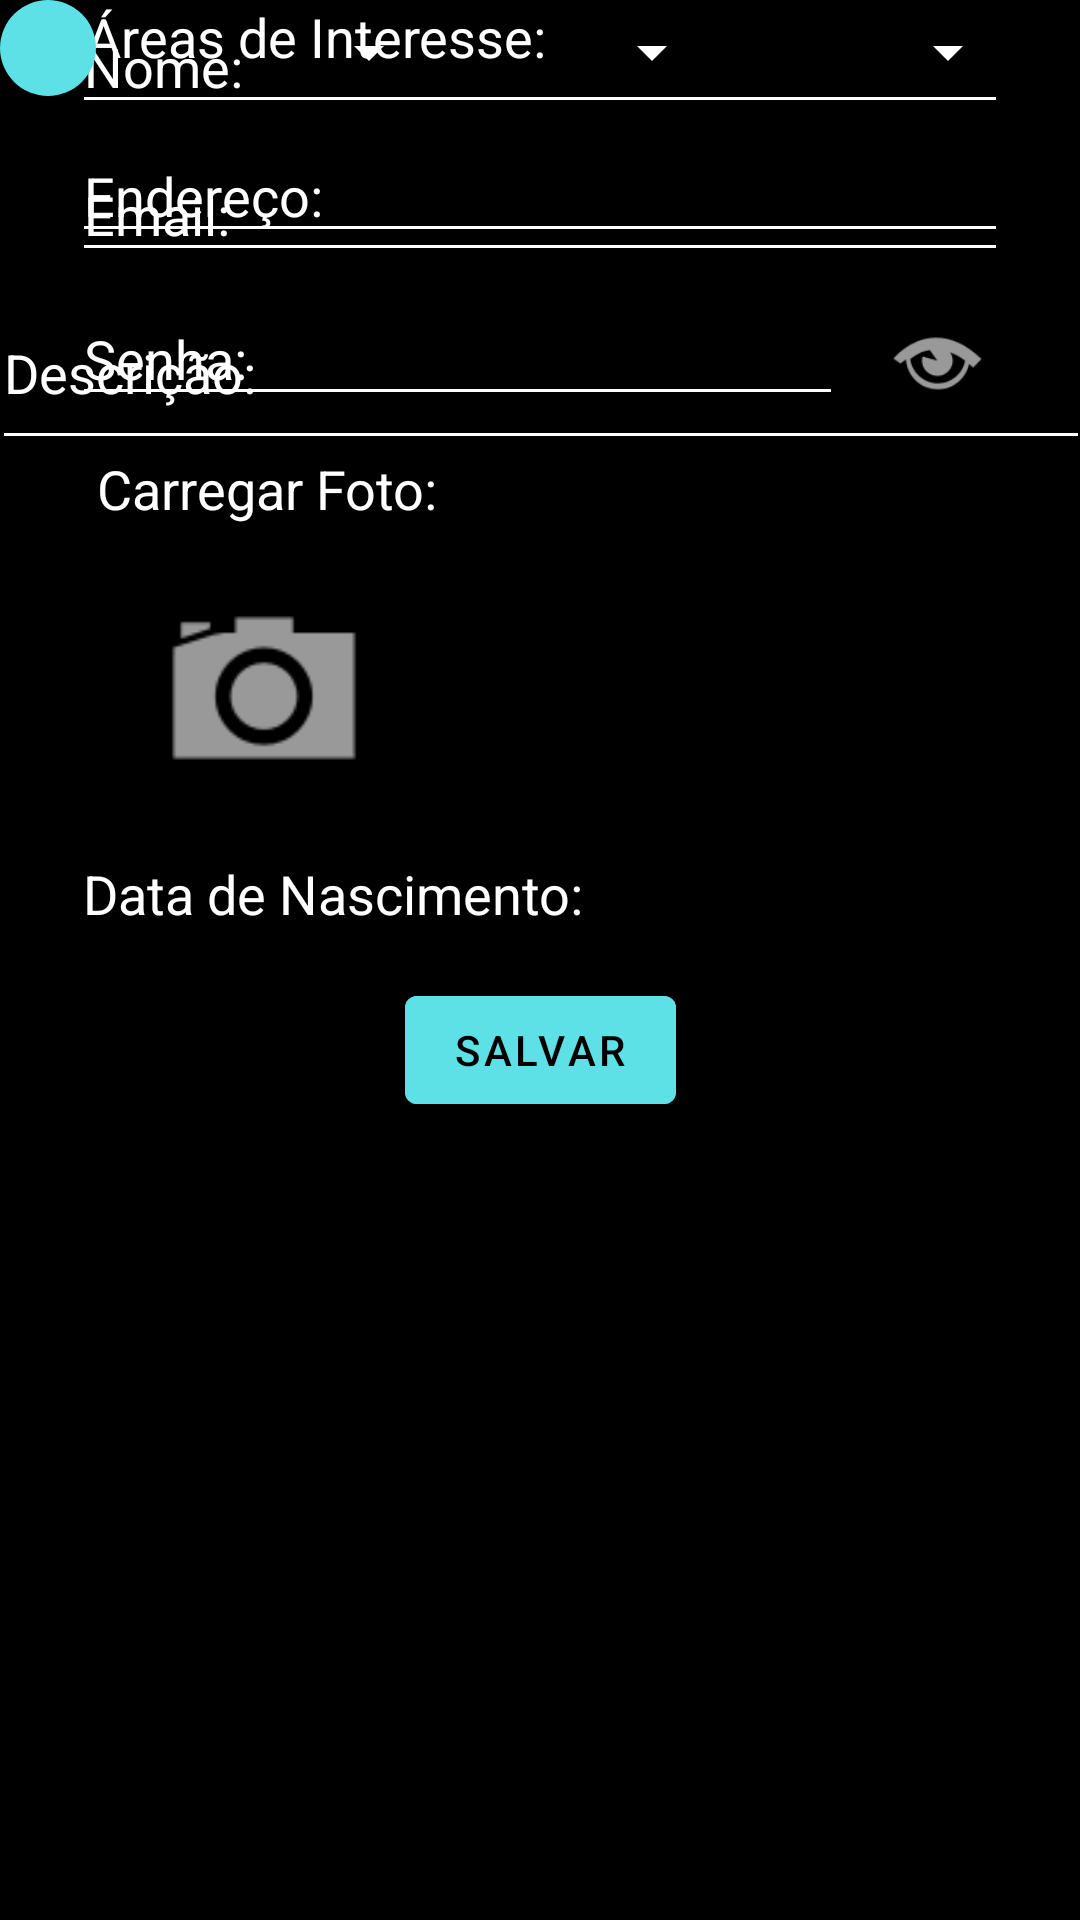

Named icons in this screenshot (1080w x 1920h) and their bounding boxes, {"x1": x1, "y1": y1, "x2": x2, "y2": y2}:
camera: {"x1": 172, "y1": 616, "x2": 356, "y2": 760}
view: {"x1": 893, "y1": 337, "x2": 982, "y2": 390}
